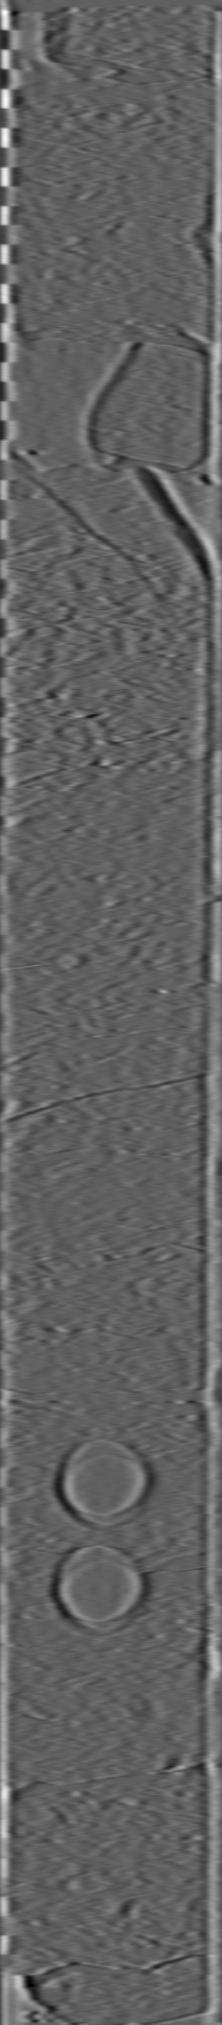scal: (46, 1542, 151, 1641), (52, 1434, 154, 1532)
